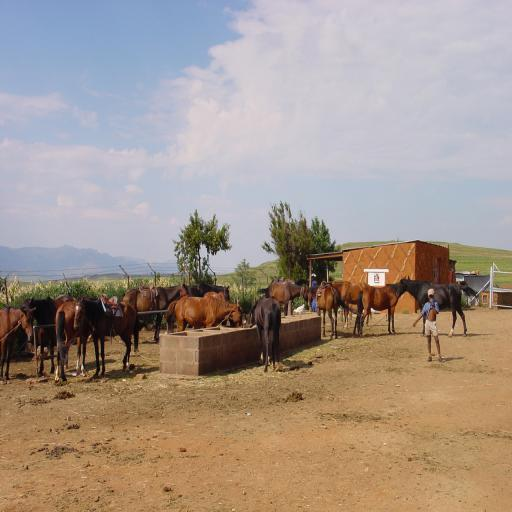horse: (0, 275, 480, 384)
